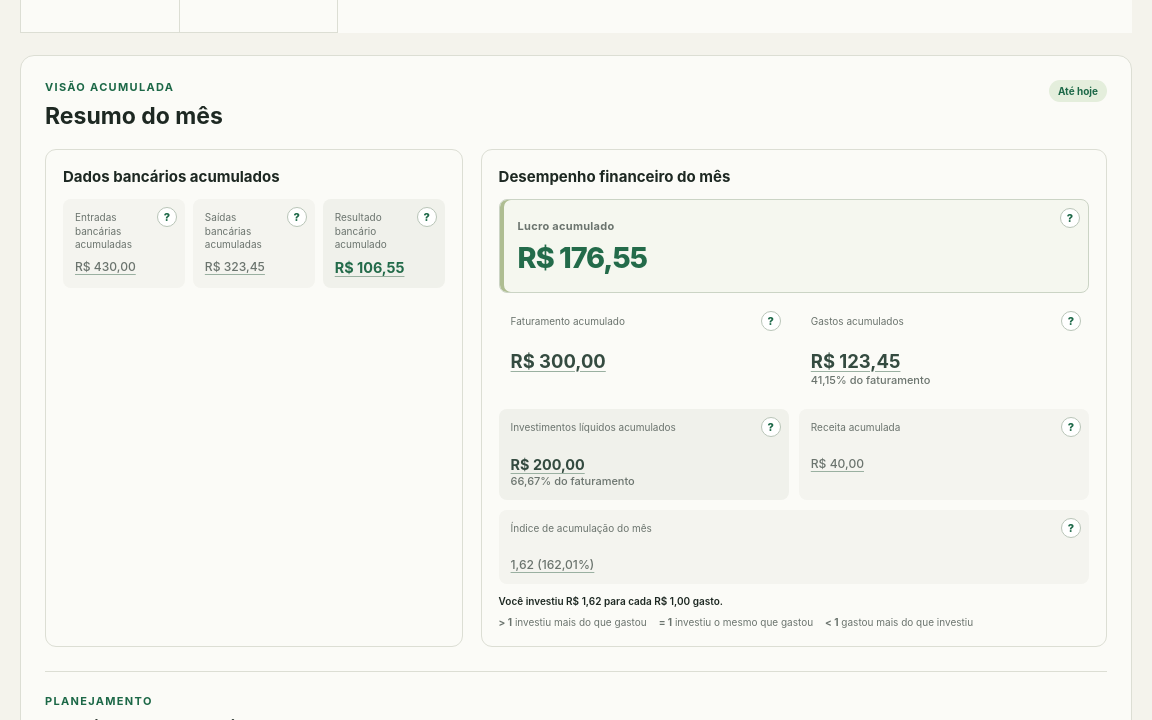
Test: detalhamento dos indicadores acumulados › atualiza indicador e detalhamento aberto quando a classificação muda
The image size is (1152, 720).
(page scrolled)
Click the button "R$ 123,45" at (856, 361), box [807, 346, 904, 376]
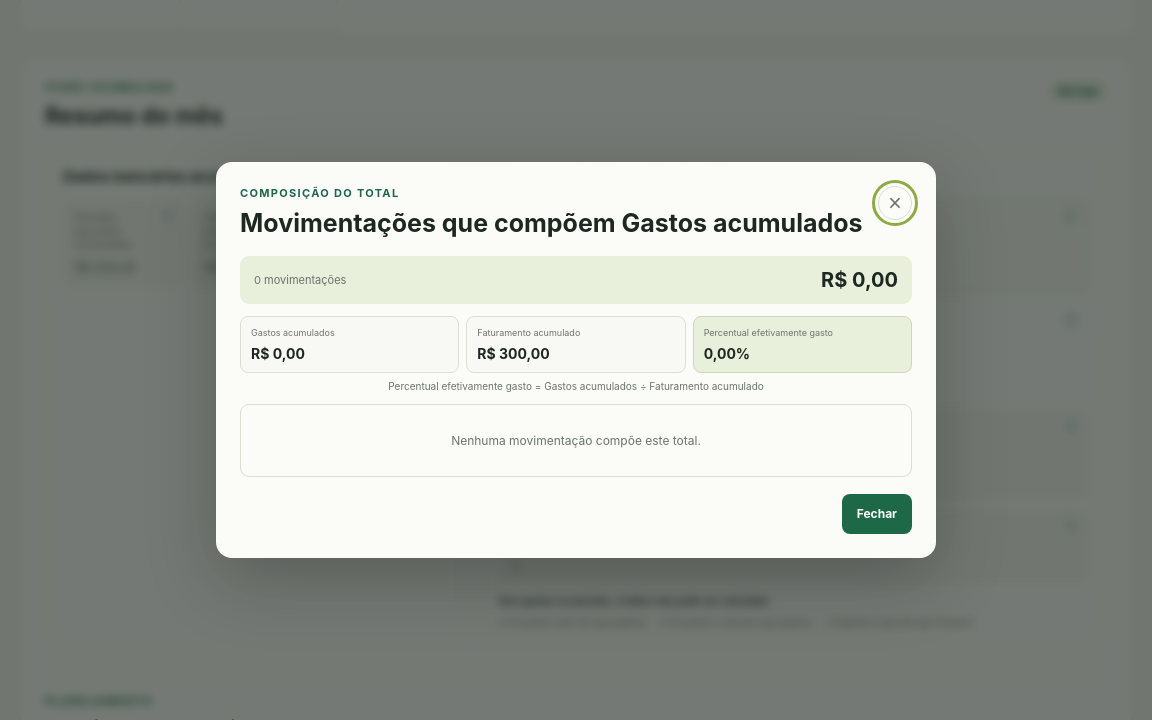
Now the 1st text "R$ 0,00" is shown, box [821, 268, 898, 292]
Press the mouse on the element with class "modal-backdrop" at (576, 360), box [0, 0, 1151, 719]
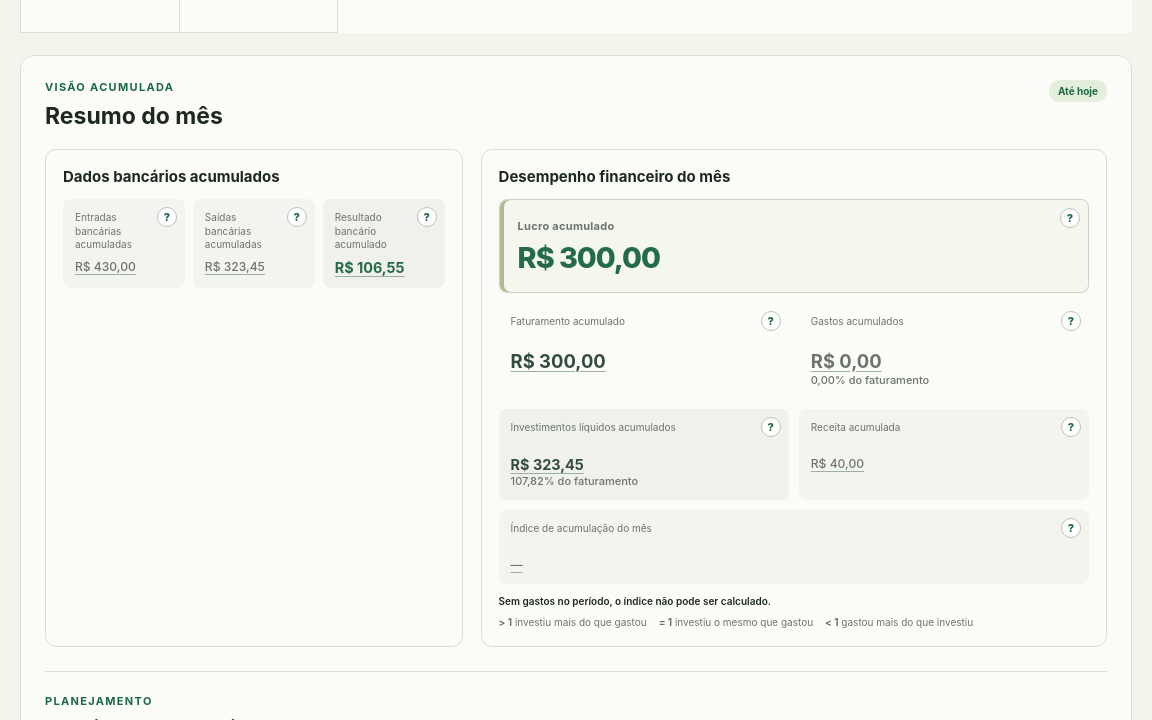
Now the dialog is gone
